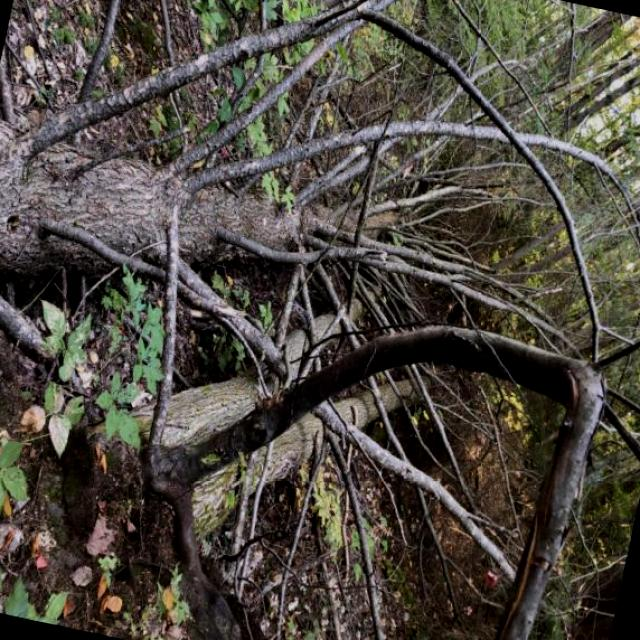fallen_object: (0, 72, 459, 349), (62, 228, 399, 568), (177, 323, 463, 586)
